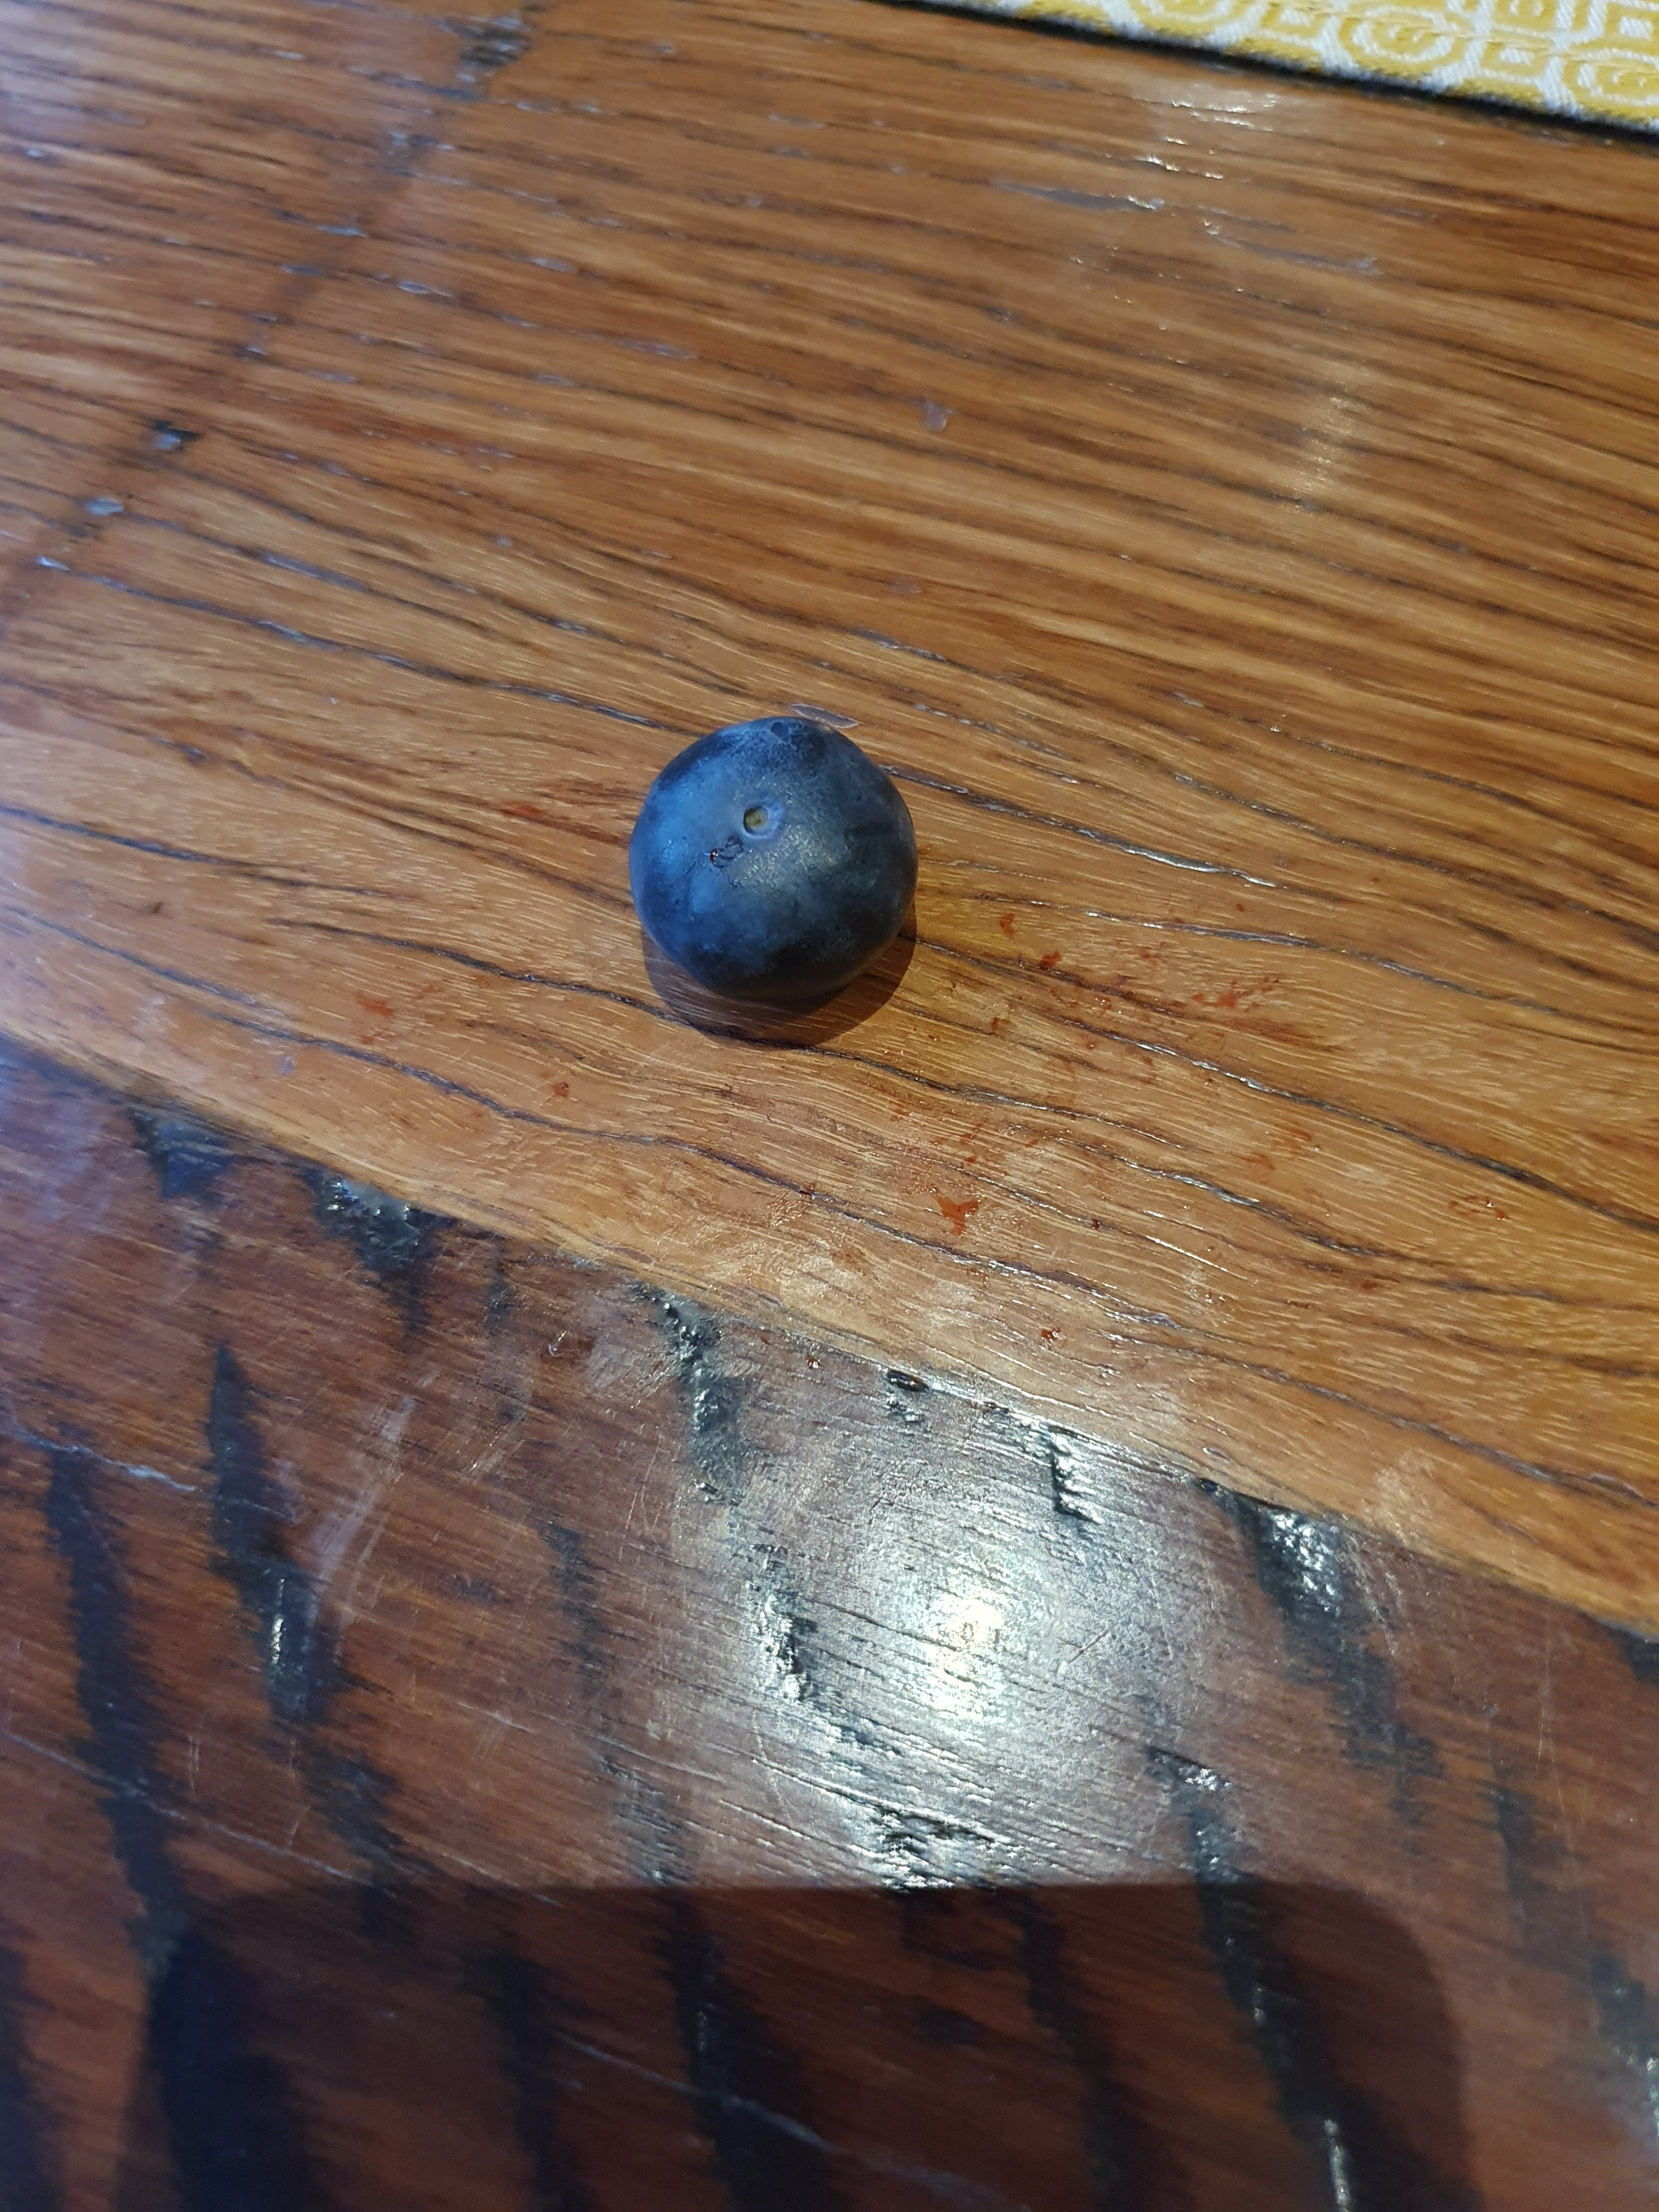blueberry: (622, 686, 931, 1047)
